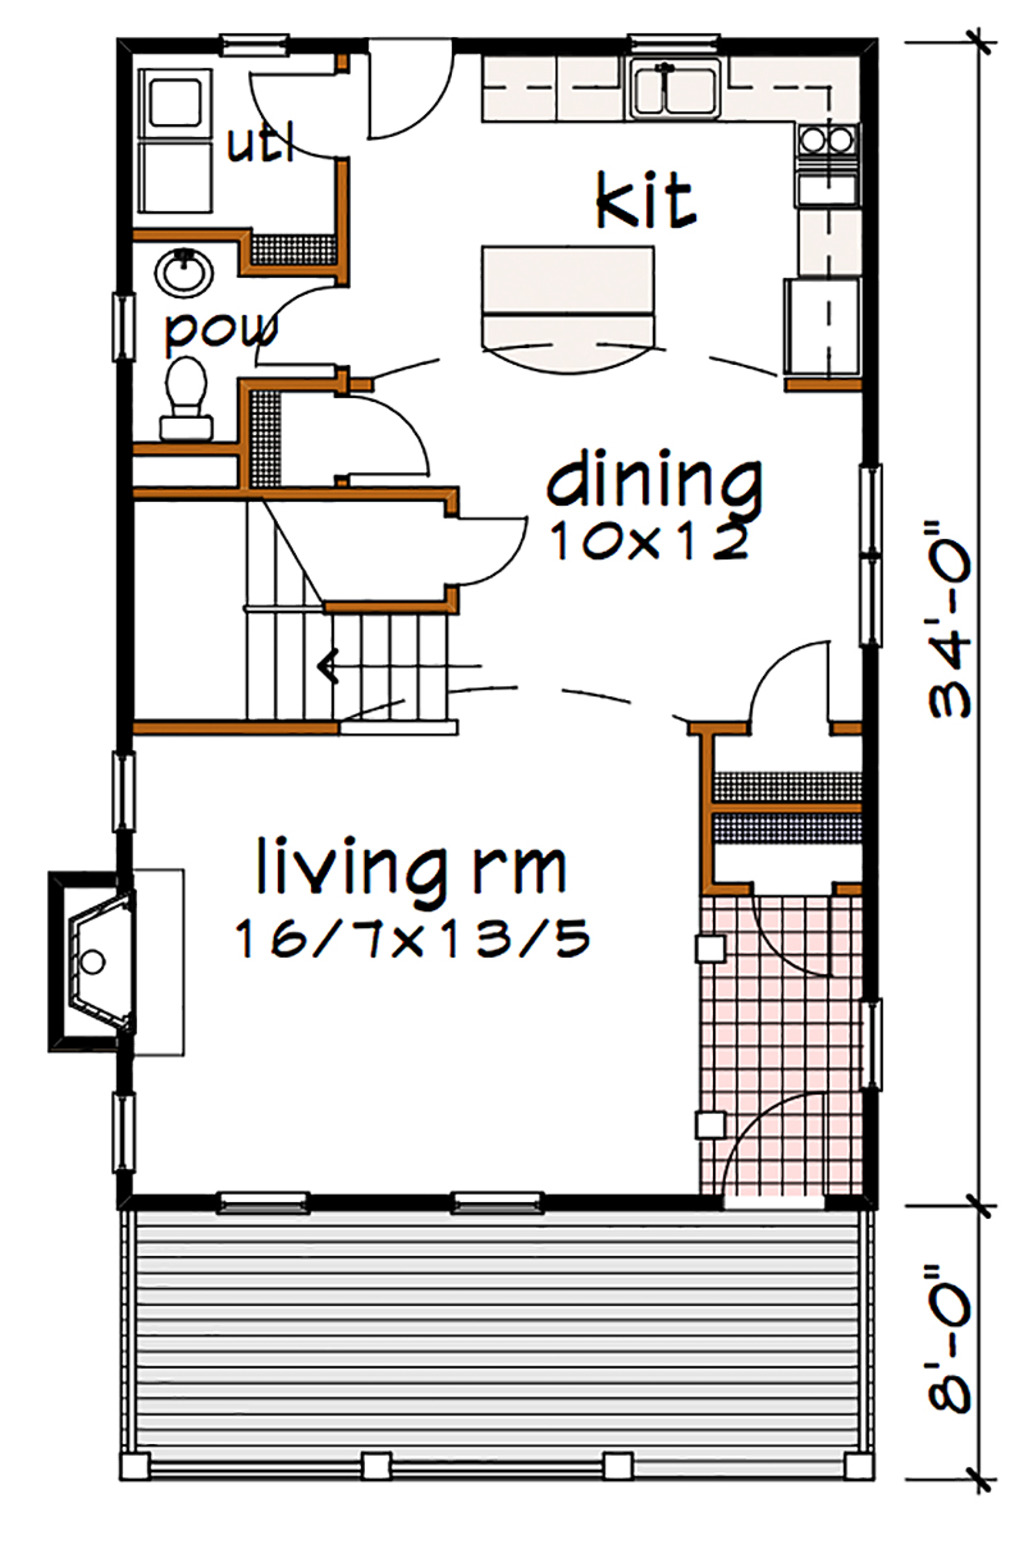door: (247, 57, 359, 174), (749, 609, 847, 738), (727, 874, 839, 988), (331, 387, 437, 496), (715, 1084, 817, 1194), (373, 40, 469, 147), (439, 499, 533, 589)
large_sink: (155, 335, 239, 450)
small_sink: (149, 233, 227, 311)
stairs: (232, 496, 456, 730)
twin_sink: (617, 48, 729, 133)
window: (859, 477, 893, 655), (849, 980, 898, 1100), (213, 1174, 322, 1218), (98, 747, 147, 840), (107, 1084, 147, 1177), (110, 287, 144, 374), (454, 1188, 544, 1213)
